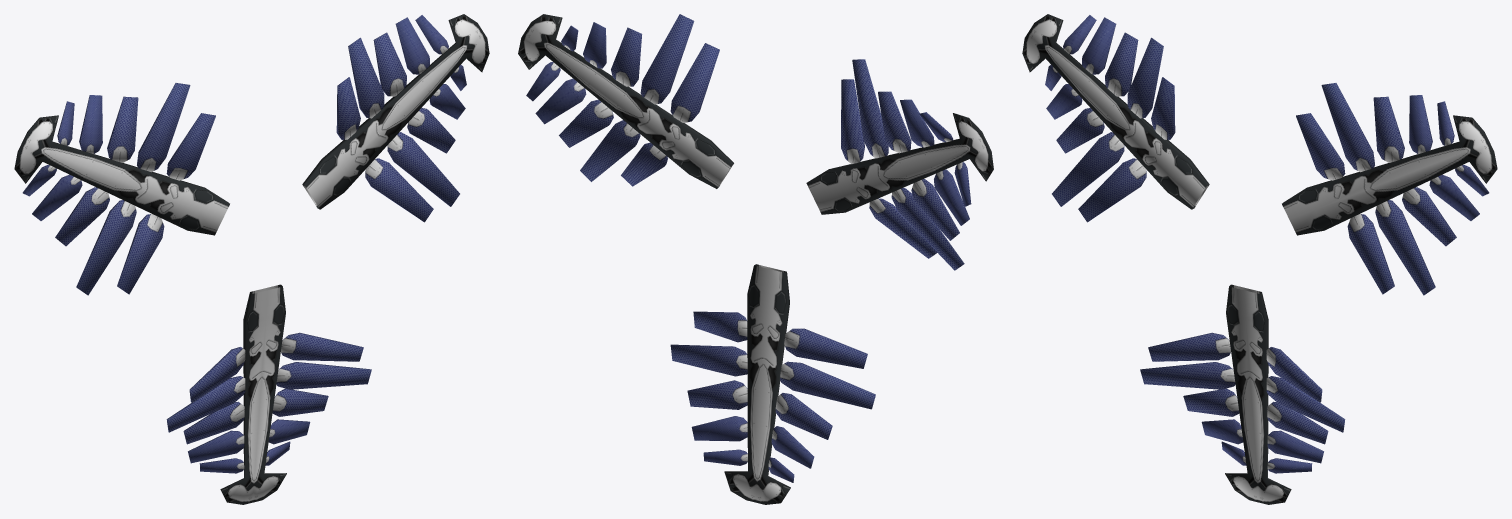
File: GeneradorT2.fbx
3 renders of one model, left to right at view 1: azimuth 30°, elevation 25°; view 2: azimuth 150°, elevation 25°; view 3: azimuth 330°, elevation 25°, orthographic.
Visible parts, largest first — view 1: ArraySolar; view 2: ArraySolar; view 3: ArraySolar.
Part boxes in pixels (x1,y1,x2,y2): ArraySolar: (14, 14, 489, 504); ArraySolar: (518, 14, 993, 504); ArraySolar: (1022, 14, 1497, 504).
Size of the model in its own units: 8.91 by 8.13 by 1.06.
1 material, 1 textured.
